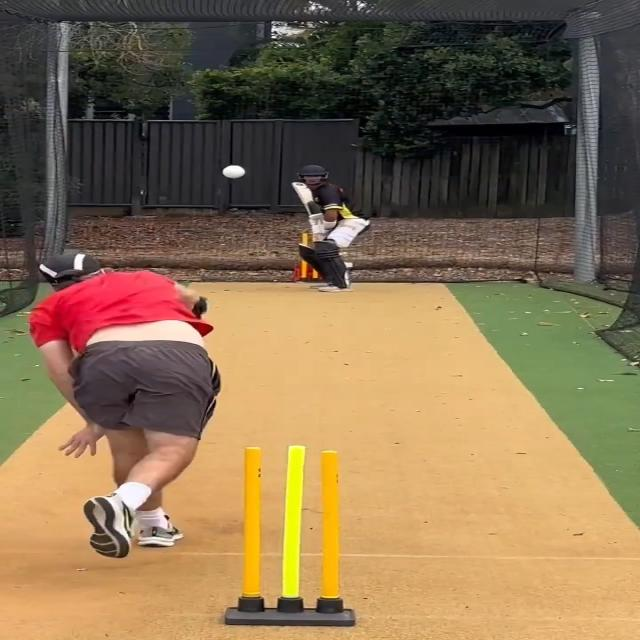ball: (220, 164, 247, 180)
stump: (222, 445, 356, 627)
